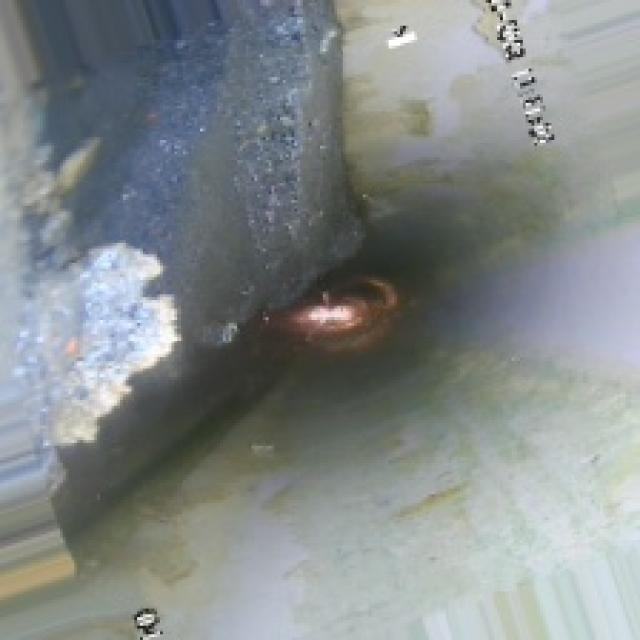sluge accumulation: (63, 20, 363, 429)
